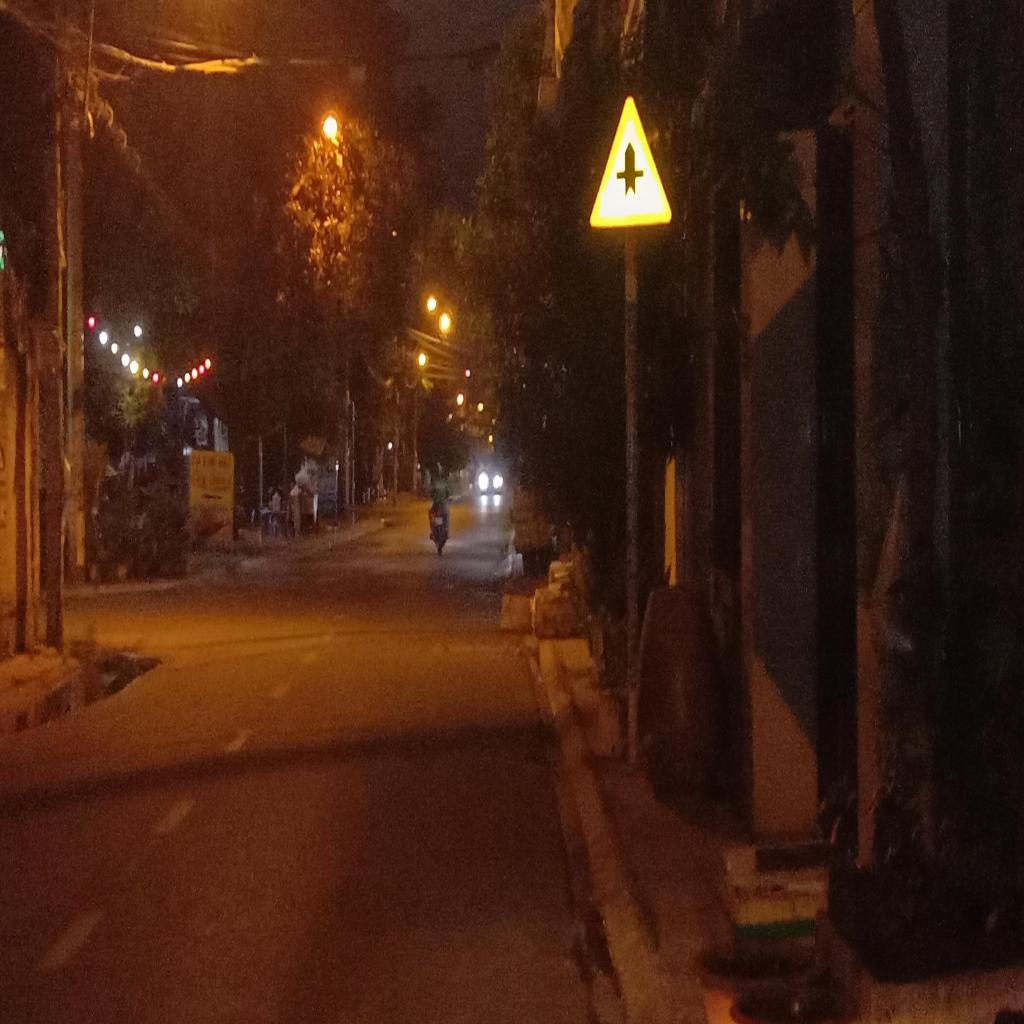giao_nhau_voi_duong_khong_uu_tien: (588, 89, 675, 226)
